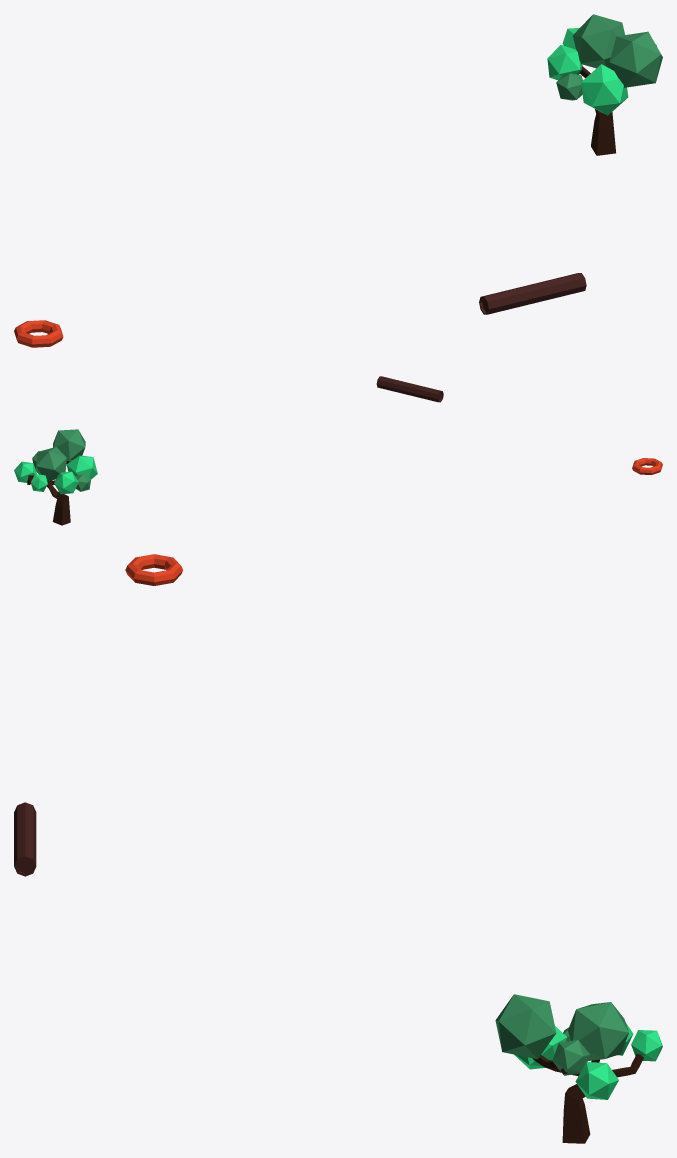
Rendered from maypuno 1.fbx.
The picture shows the model from 3 angles, top to bottom: view 1: azimuth 30°, elevation 25°; view 2: azimuth 150°, elevation 25°; view 3: azimuth 270°, elevation 25°; orthographic projection. The views are drawn at different scales.
Parts seen in each view (by area): view 1: Icosphere.004, Cylinder, Torus, Cube; view 2: Icosphere.004, Cylinder, Cube, Torus; view 3: Icosphere.004, Cube, Cylinder, Torus.
Boxes of the visible parts, x1,y1,x2,y2 form: Icosphere.004: [547, 14, 662, 115]; Cylinder: [479, 273, 586, 314]; Torus: [14, 320, 63, 347]; Cube: [579, 66, 615, 155]; Icosphere.004: [14, 429, 97, 494]; Cylinder: [376, 376, 443, 402]; Cube: [27, 461, 70, 525]; Torus: [632, 458, 662, 474]; Icosphere.004: [495, 994, 662, 1099]; Cube: [532, 1054, 643, 1143]; Cylinder: [14, 802, 36, 876]; Torus: [125, 554, 182, 585].
Bounding box in the file's own units: 9717 × 1579 × 5770.
